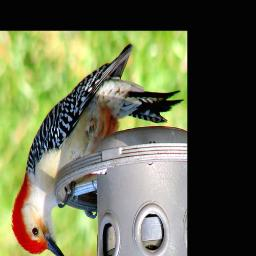Woodpecker: (12, 42, 184, 256)
